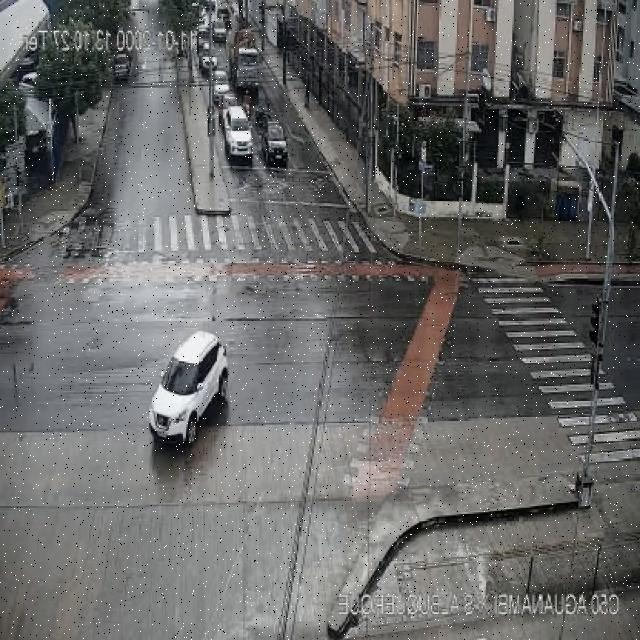Car: (147, 330, 228, 445), (222, 105, 254, 163), (258, 120, 288, 166), (212, 79, 232, 108), (113, 52, 132, 82), (196, 27, 211, 56), (200, 52, 218, 73), (212, 22, 227, 43), (217, 4, 230, 23)
Truck: (233, 31, 262, 91)
